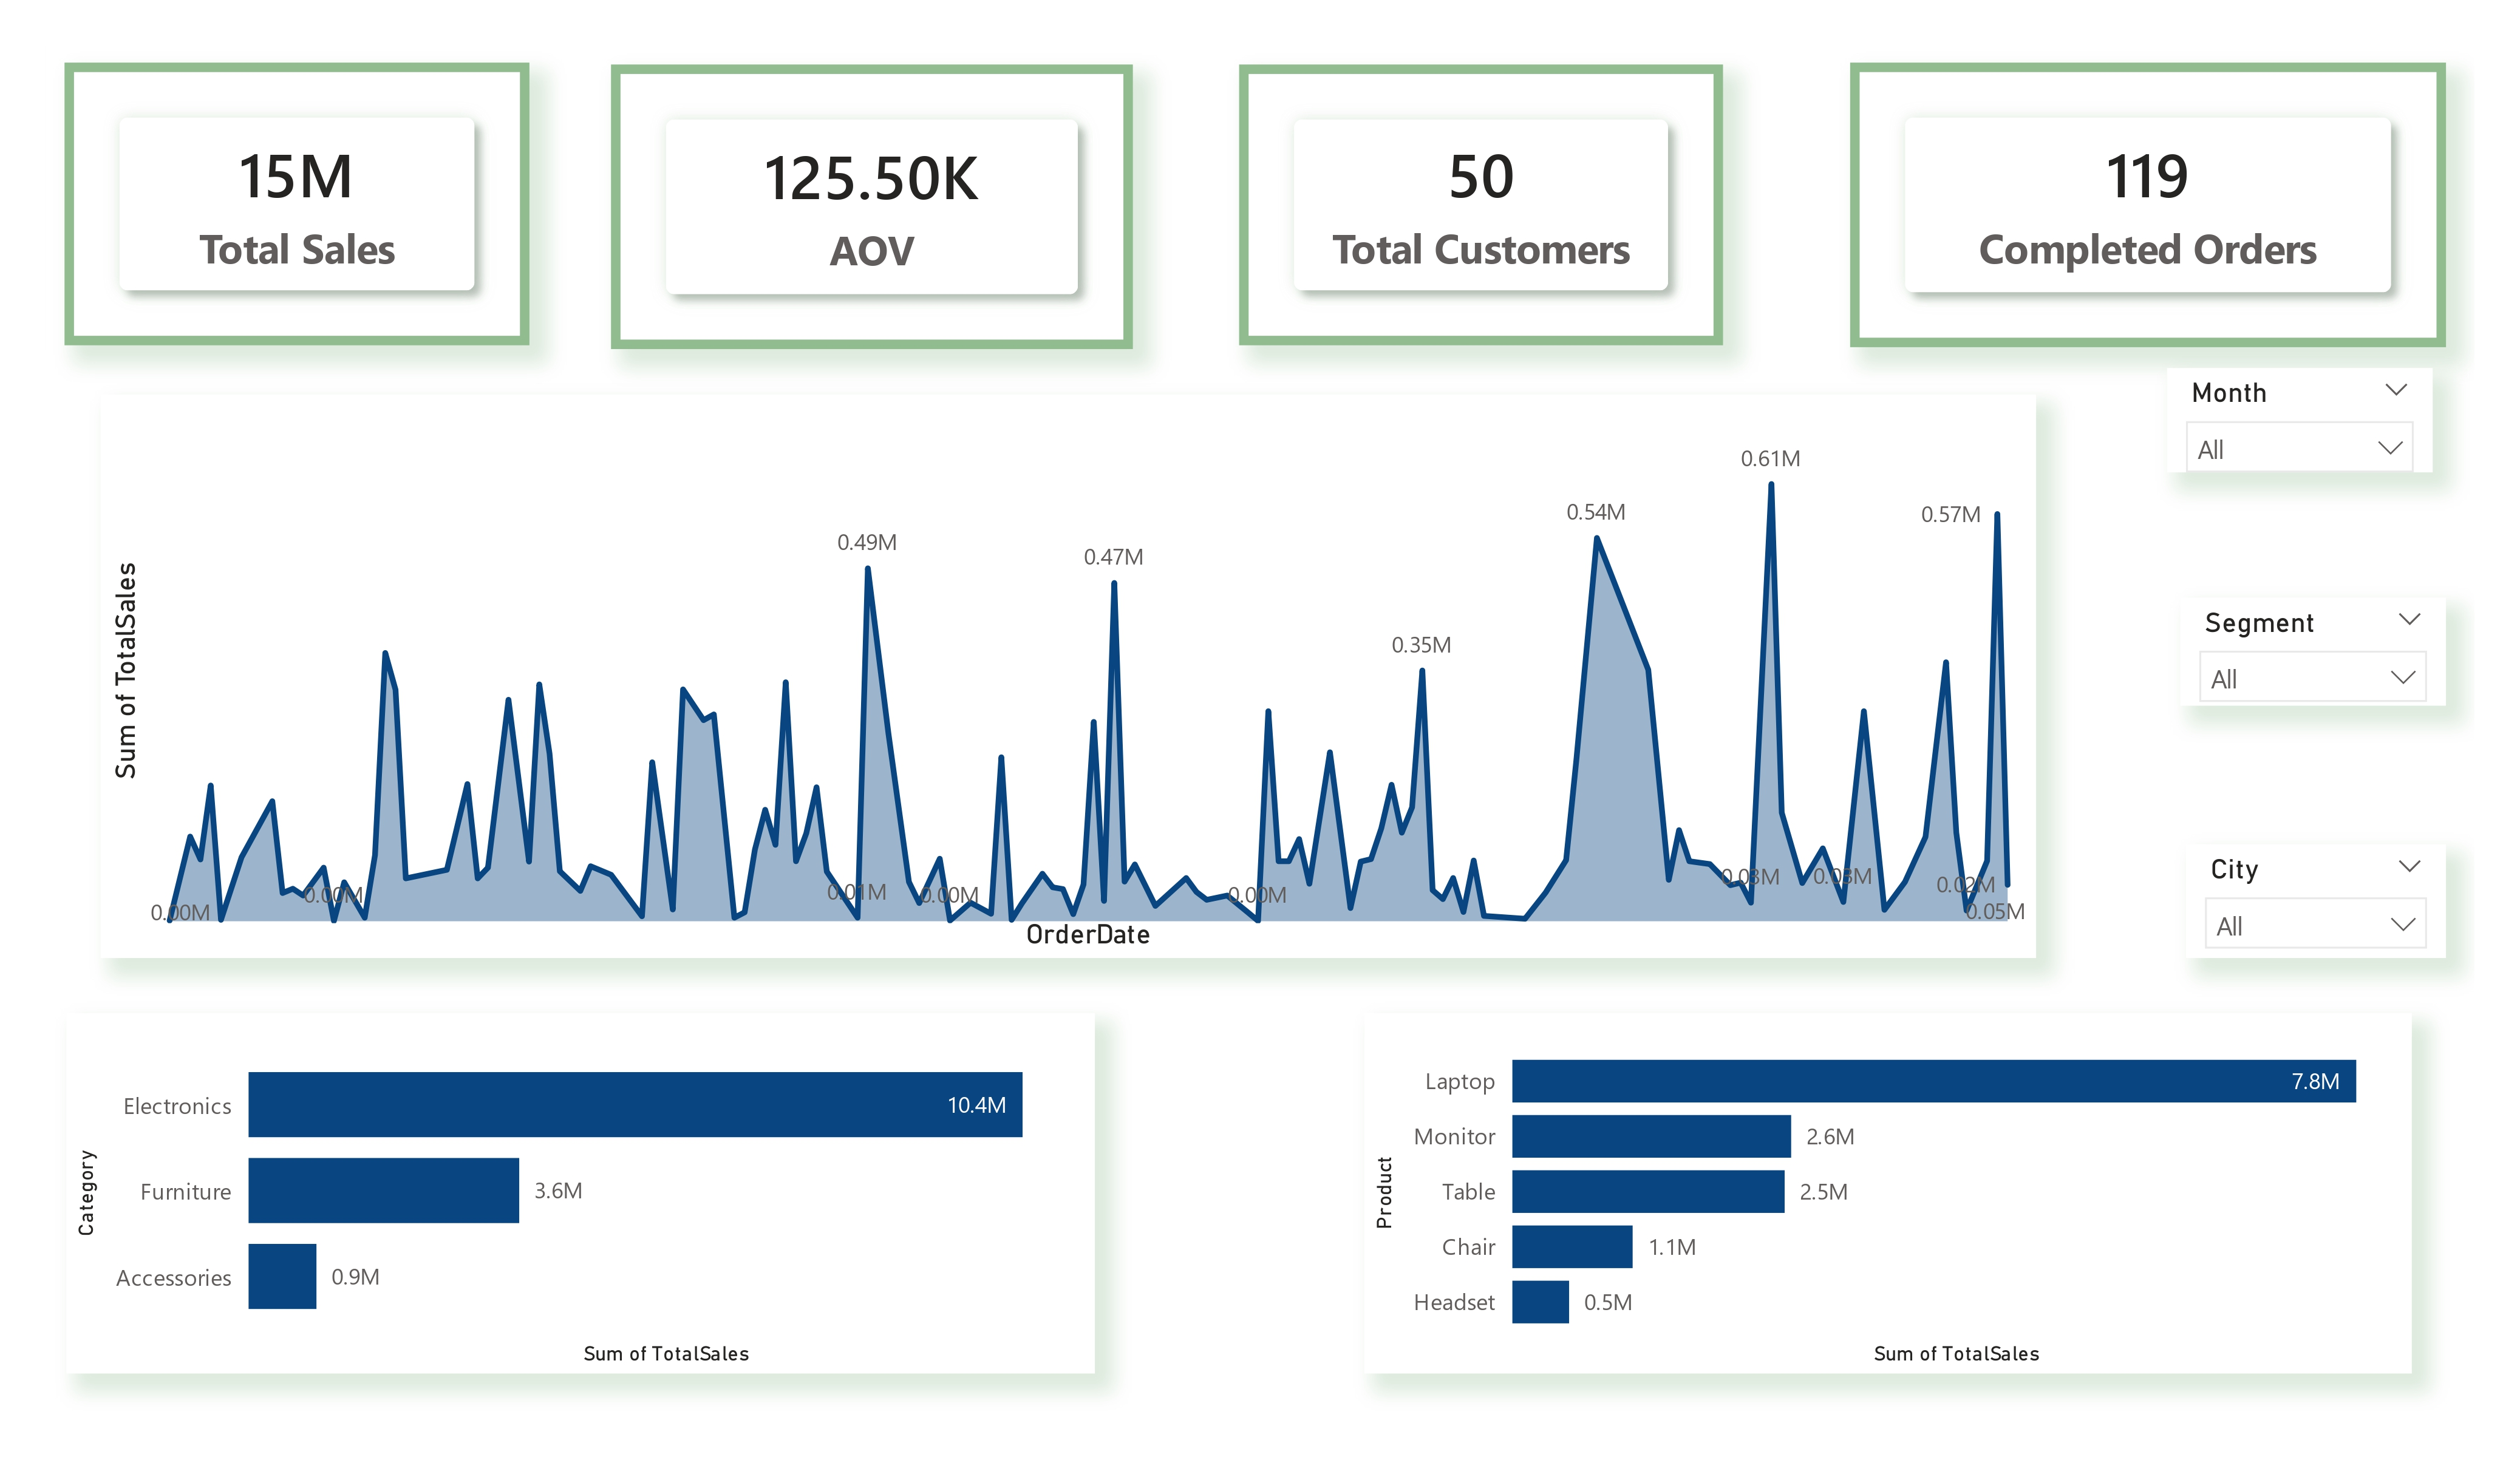

What the dashboard file says about the page in this screenshot:
{"tool":"powerbi","page":{"name":"Executive Overview","canvas":[1280,720],"ordinal":0},"visuals":[{"type":"cardVisual","fields":{"Data":["Customers.Total Sales"]},"box":[10.5,9.3,244.2,148.8],"z":0},{"type":"cardVisual","fields":{"Data":["Orders.Total Customers"]},"box":[628.8,9.8,255.5,148.4],"z":1000},{"type":"cardVisual","fields":{"Data":["Customers.Completed Orders"]},"box":[951.2,9.3,314,150],"z":2000},{"type":"cardVisual","fields":{"Data":["Orders.AOV"]},"box":[297.7,9.8,275.1,150.3],"z":3000},{"type":"lineChart","fields":{"Y":["Sum(Sales.TotalSales)"],"Category":["Orders.OrderDate"]},"box":[29.5,183.7,1019.9,297.7],"z":4000},{"type":"barChart","fields":{"Y":["Sum(Sales.TotalSales)"],"Category":["Sales.Category"]},"box":[10.8,509.9,542.4,189.6],"z":5000},{"type":"barChart","fields":{"Category":["Sales.Product"],"Y":["Sum(Sales.TotalSales)"]},"box":[694.7,509.9,552.2,189.6],"z":6000},{"type":"slicer","fields":{"Values":["Customers.City"]},"box":[1127.9,420.9,137.2,60.5],"z":7000},{"type":"slicer","fields":{"Values":["Orders.OrderDate.Variation.Date Hierarchy.Month"]},"box":[1118.1,170,139.5,55],"z":8000},{"type":"slicer","fields":{"Values":["Customers.Segment"]},"box":[1125,290.8,139.5,57],"z":9000}]}

Visuals, with their boxes in screenshot pixels (x1, y1, x2, y2):
cardVisual - Customers.Total Sales: bbox(66, 63, 529, 345)
cardVisual - Orders.Total Customers: bbox(1239, 64, 1723, 345)
cardVisual - Customers.Completed Orders: bbox(1851, 63, 2447, 348)
cardVisual - Orders.AOV: bbox(610, 64, 1132, 349)
lineChart - Sum(Sales.TotalSales) x Orders.OrderDate: bbox(101, 394, 2037, 959)
barChart - Sum(Sales.TotalSales) x Sales.Category: bbox(66, 1013, 1095, 1373)
barChart - Sales.Product x Sum(Sales.TotalSales): bbox(1364, 1013, 2412, 1373)
slicer - Customers.City: bbox(2186, 844, 2446, 959)
slicer - Orders.OrderDate.Variation.Date Hierarchy.Month: bbox(2167, 368, 2432, 472)
slicer - Customers.Segment: bbox(2181, 597, 2445, 705)
